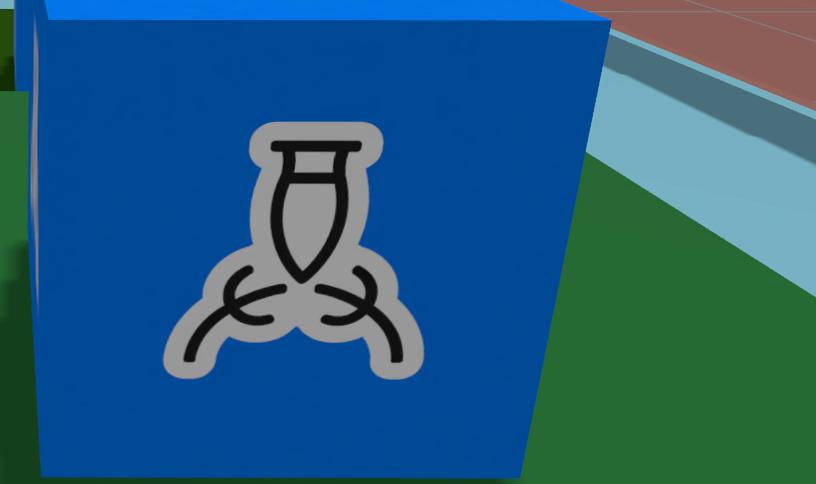KFS_REAL: (23, 0, 617, 483), (164, 121, 423, 378), (14, 0, 31, 90)
